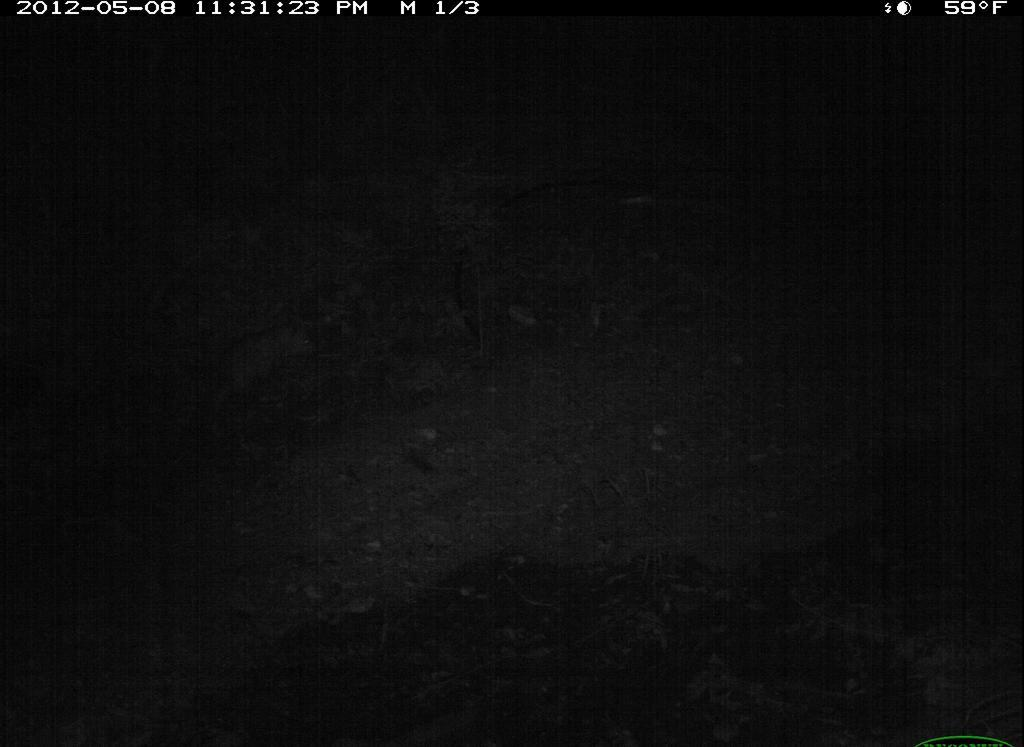opossum: (199, 310, 331, 420)
